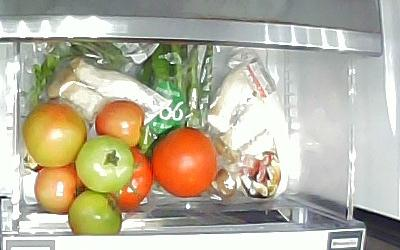tomato: (150, 125, 216, 198), (21, 101, 87, 167), (73, 132, 135, 192), (110, 147, 153, 211), (66, 188, 122, 234), (33, 165, 86, 213), (94, 99, 146, 147)
